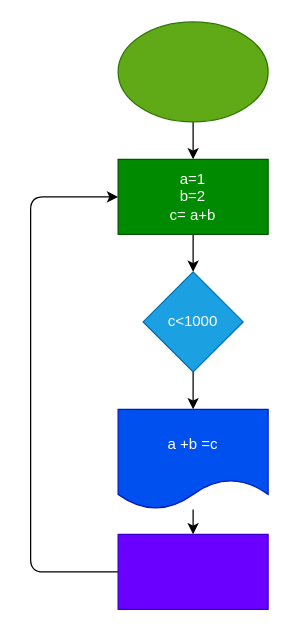
This 290x631 diagram has some shape labels left out. The shapes that lost their labels are listed below. From the top down, each one's centre as x and y in pixels, then its label:
[192,71]: INICIO
[192,571]: a = b b = c c = a + b
